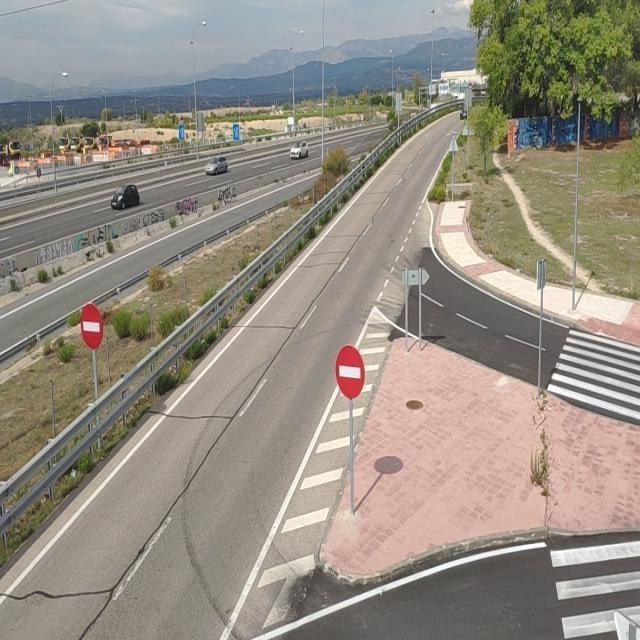Car: (110, 184, 140, 210), (205, 156, 228, 176), (290, 140, 309, 160), (460, 110, 467, 120), (480, 90, 486, 96)
